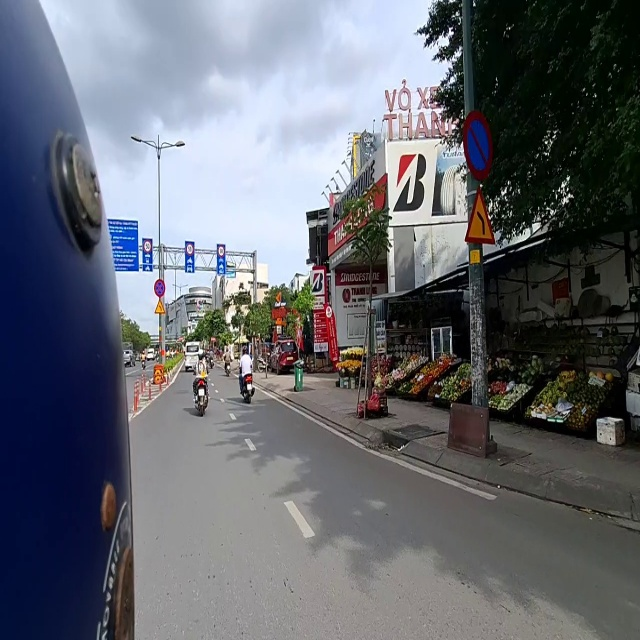cam do xe: (451, 105, 506, 182)
